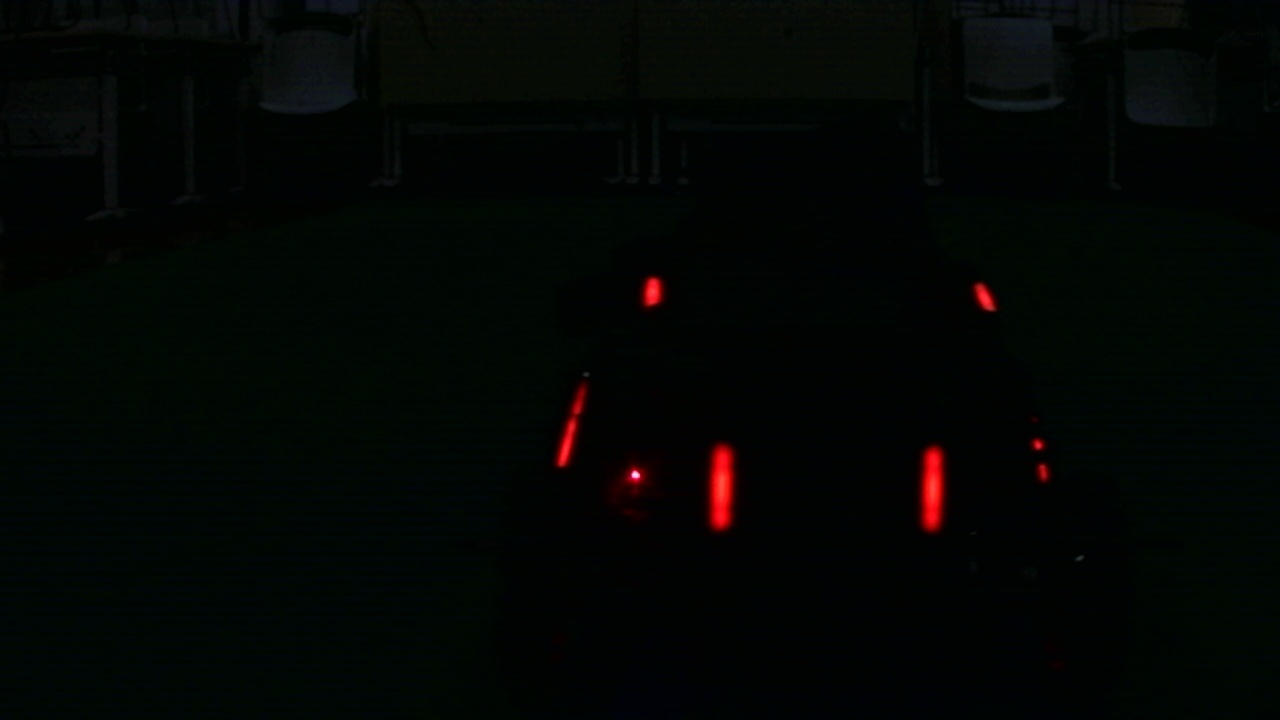lamp: (921, 435, 949, 531), (710, 436, 732, 529)
pair1: (711, 438, 950, 529)
